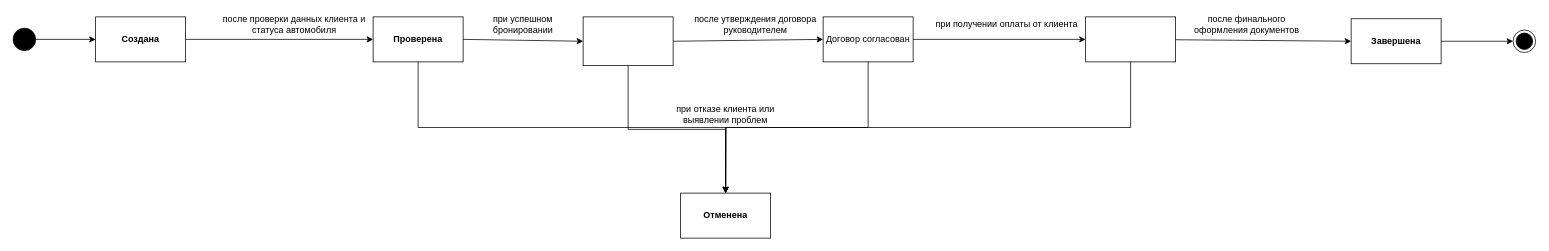
Image size: 1549x251. Some labels were removed from this diagram. The shapes that lost their labels are listed below. From the top down, each one's centre as x and y in pixels, then its label:
(x=627, y=41): Автомобиль забронирован
(x=1130, y=39): Оплачена
